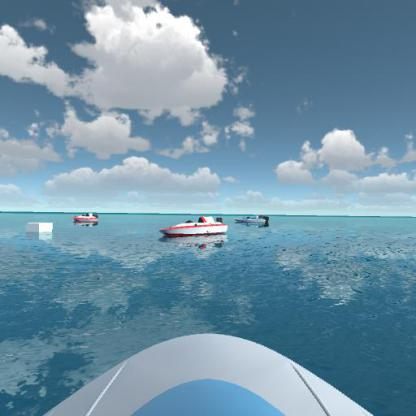usv1: (233, 210, 274, 228)
usv3: (155, 211, 232, 240), (69, 206, 102, 228)
